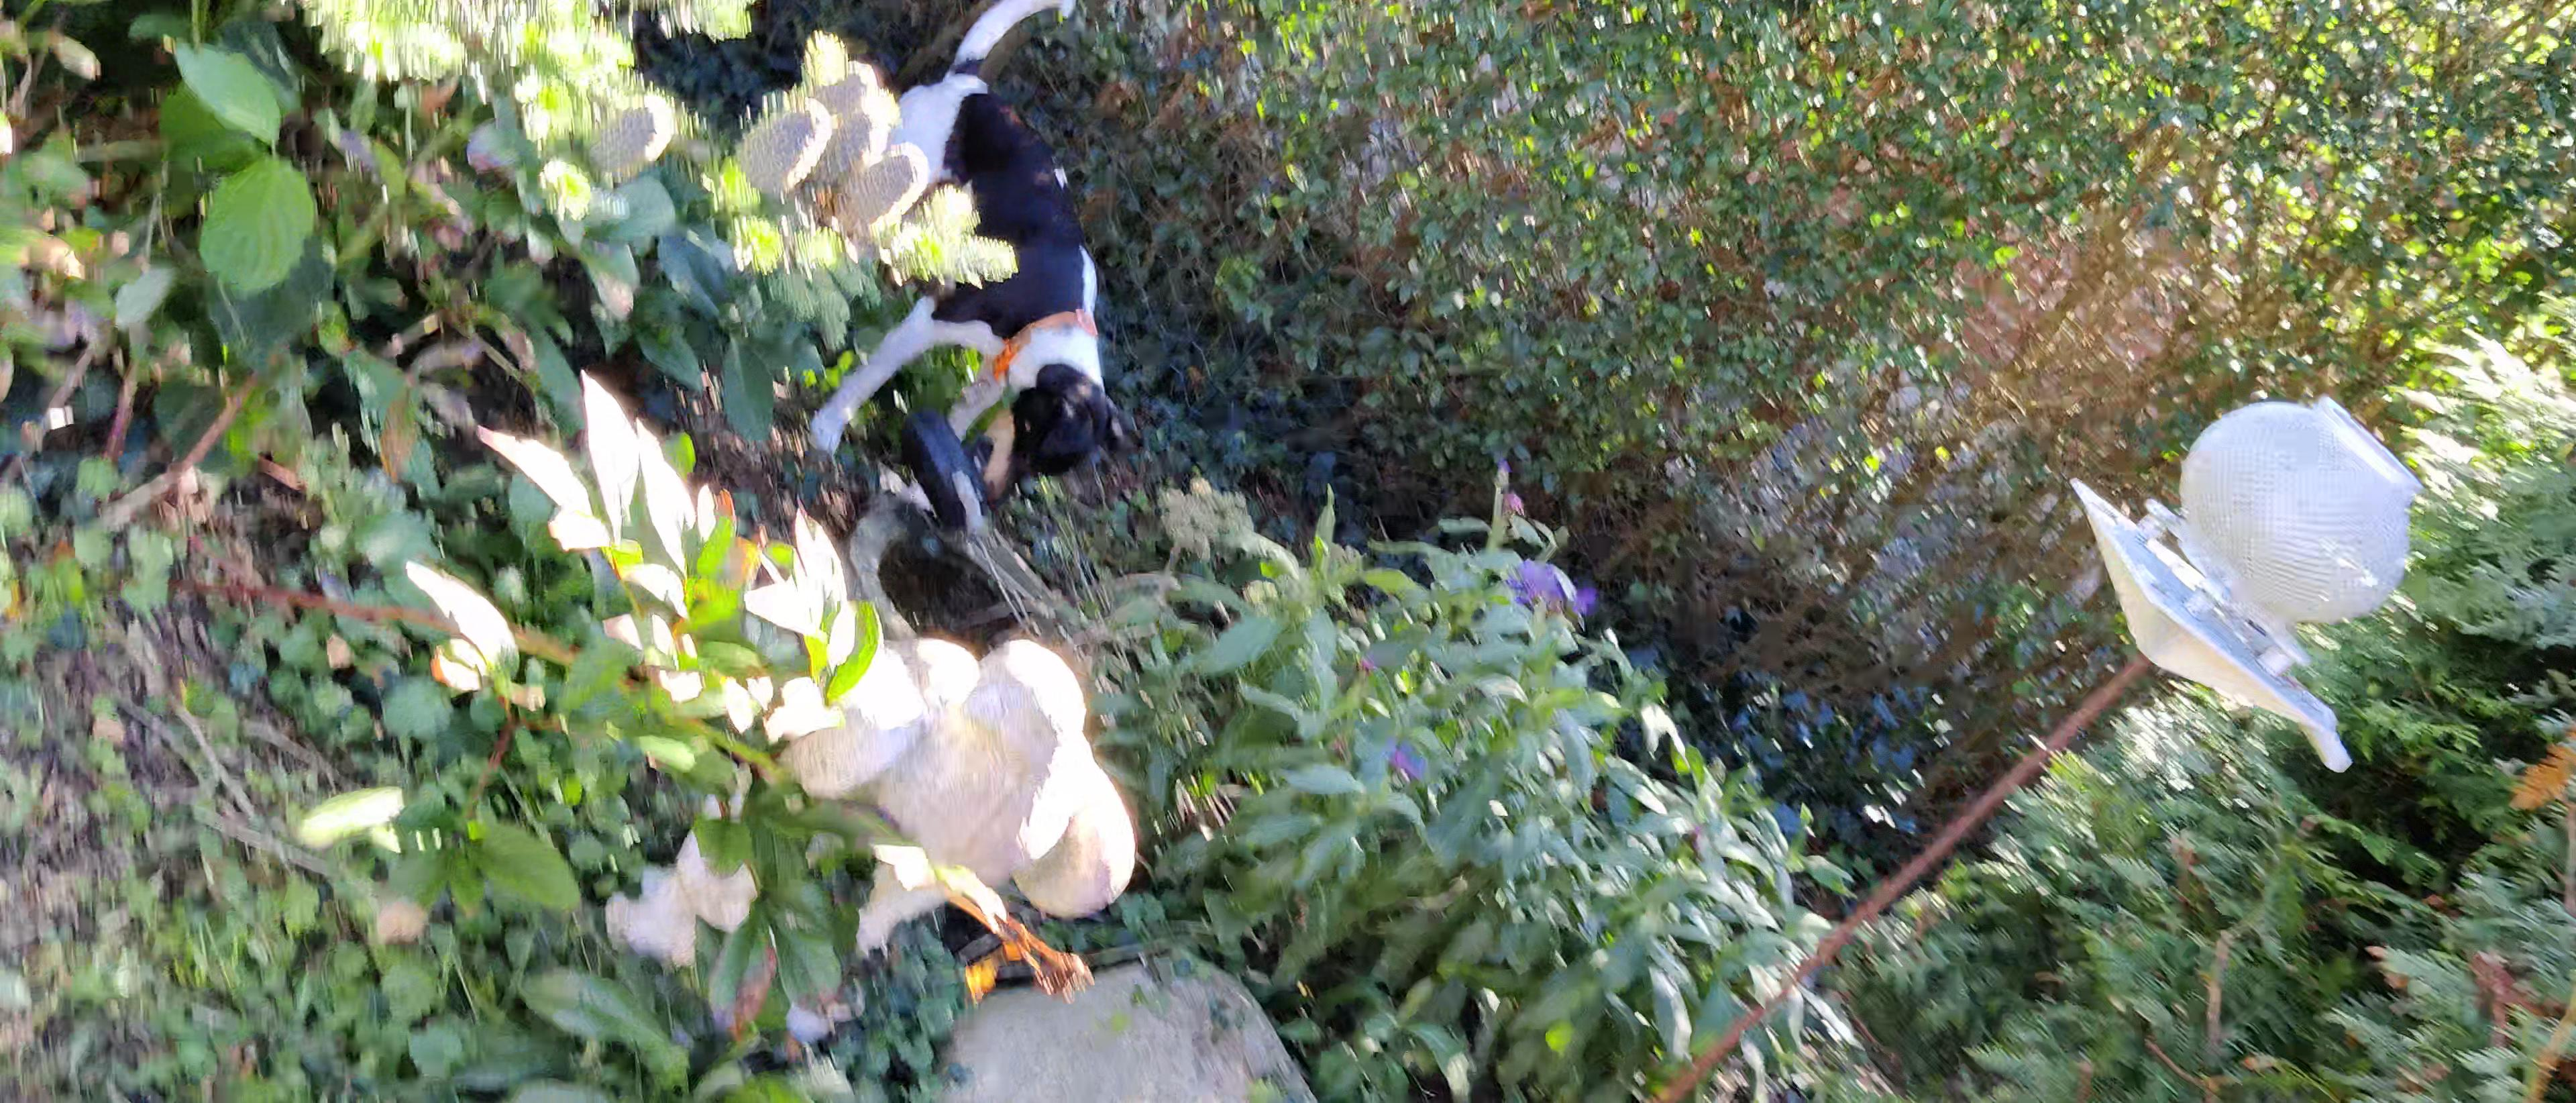Dog: (797, 0, 1155, 511)
